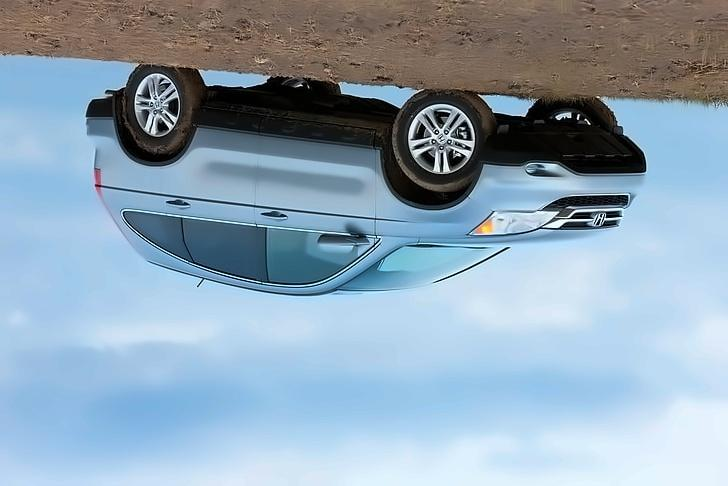Car hood: (416, 225, 615, 248)
Fender - -F-L-: (369, 129, 490, 267)
Front bumper: (475, 135, 652, 216)
Headlight - -L-: (466, 209, 559, 237)
Passenger-s door - -F-L-: (252, 92, 384, 303)
Passenger-s door - -R-L-: (161, 87, 267, 298)
Rear bumper: (79, 94, 124, 124)
Side bumper - -L-: (188, 89, 389, 174)
Side mirror - -L-: (317, 229, 369, 258)
